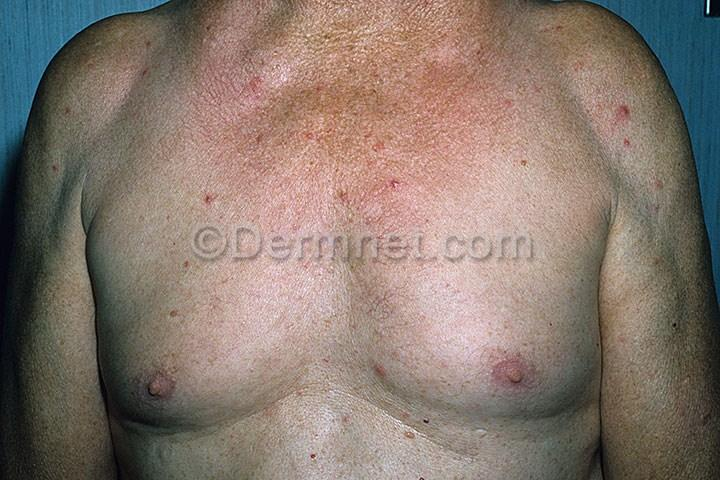Eczema: (216, 0, 508, 236), (504, 10, 663, 184), (289, 278, 459, 430), (67, 20, 219, 184), (145, 265, 265, 368), (172, 187, 220, 227)
